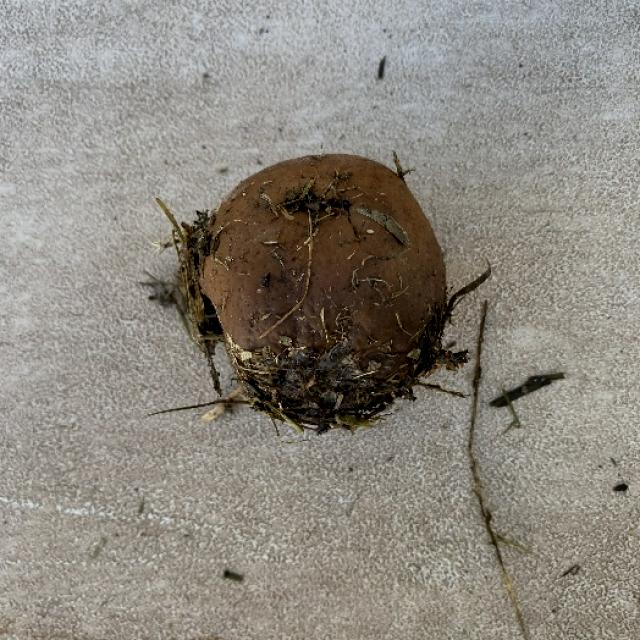wet: (475, 370, 575, 620), (246, 181, 342, 344)
